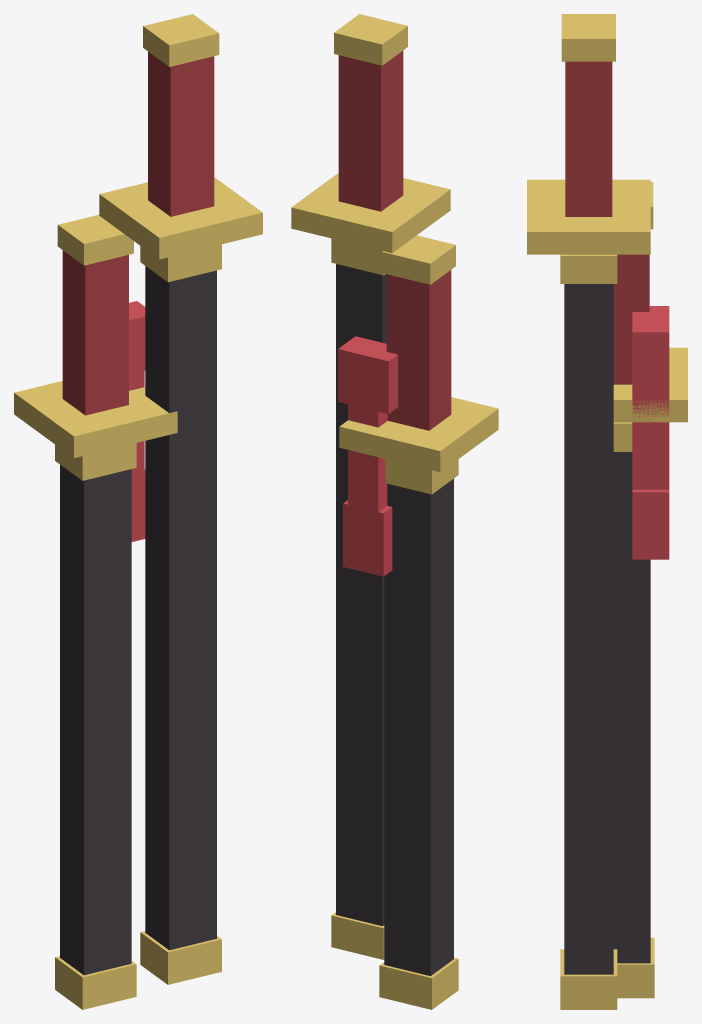
The model's file is katana_wakizashi_cintura_direita.glb.
3 views of the same model, side by side, from view 1: azimuth 30°, elevation 25°; view 2: azimuth 150°, elevation 25°; view 3: azimuth 270°, elevation 25° (orthographic). The views are drawn at different scales.
Parts seen in each view (by area): view 1: katana_wakizashi_cintura_direita; view 2: katana_wakizashi_cintura_direita; view 3: katana_wakizashi_cintura_direita.
Boxes of the visible parts, x1=… form: katana_wakizashi_cintura_direita: x1=14, y1=14, x2=262, y2=1009; katana_wakizashi_cintura_direita: x1=291, y1=14, x2=498, y2=1009; katana_wakizashi_cintura_direita: x1=527, y1=14, x2=687, y2=1009.
Size of the model in its own units: 0.165 by 0.885 by 0.13.
